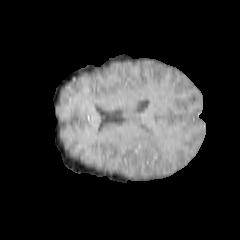glioma: (124, 126, 168, 160)
